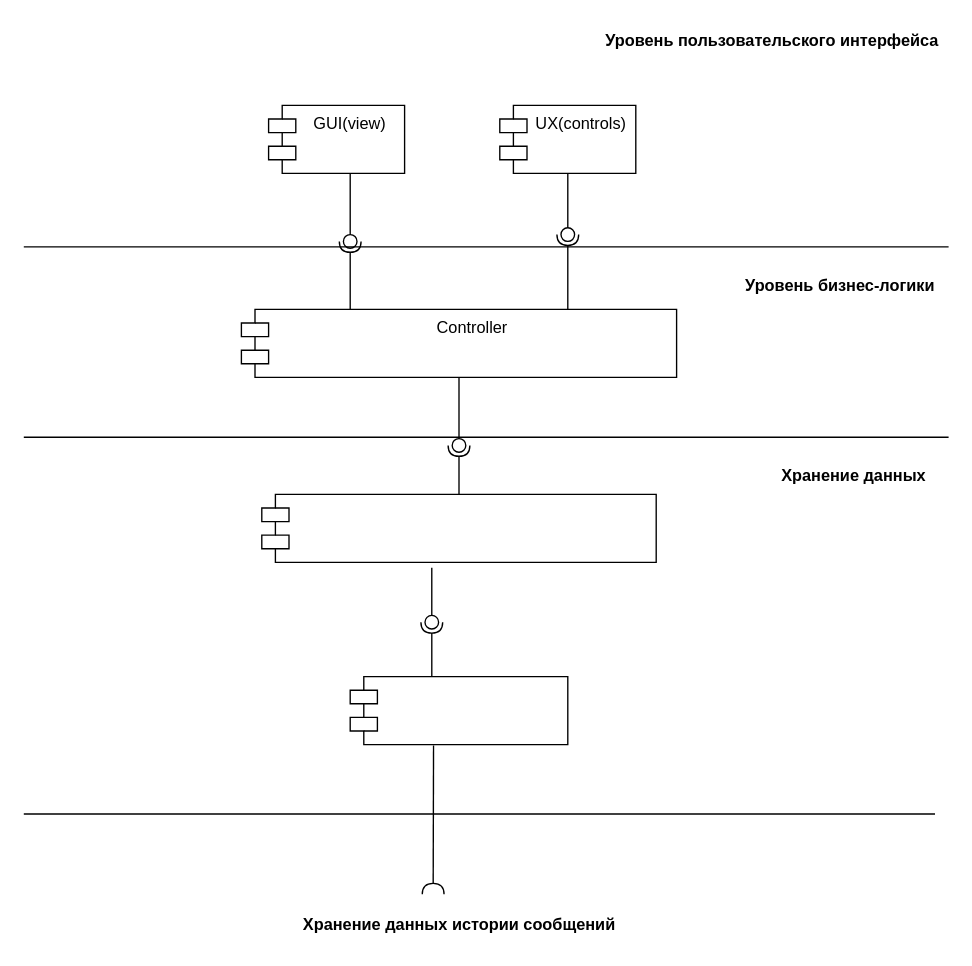
This 972x966 diagram has some shape labels left out. Here are the shapes that lost their labels. From the top down, the centre of each, then its label:
pixel 458 527: Model
pixel 458 710: MasageRepository
